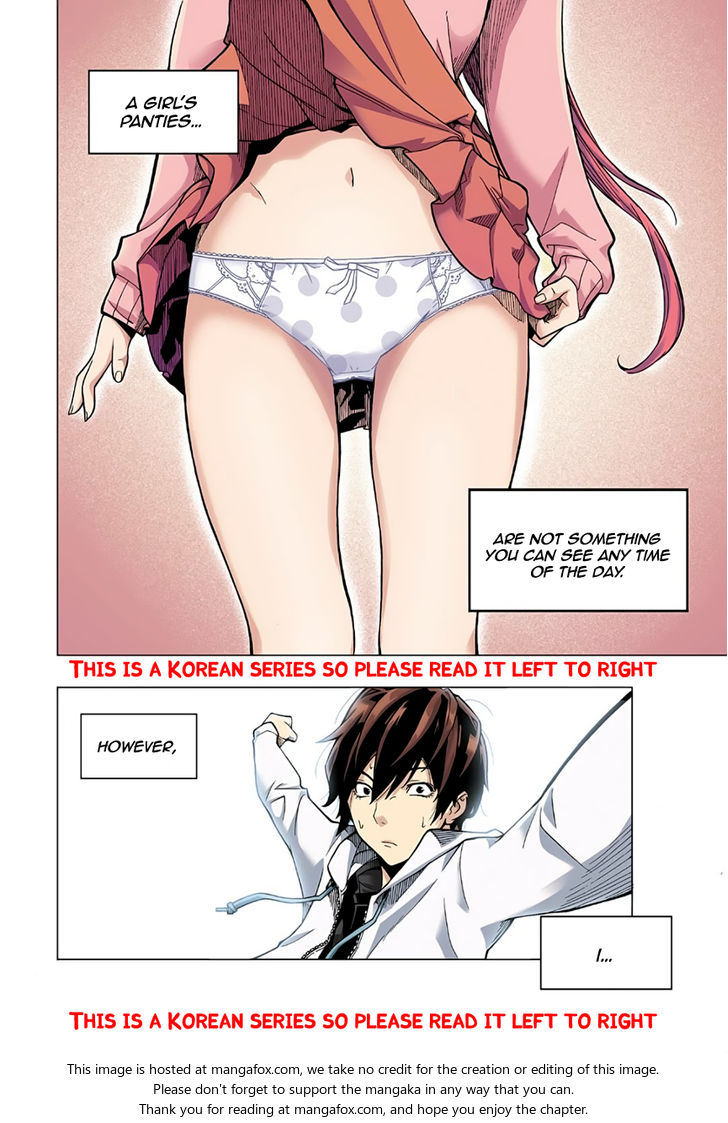bubble: (468, 490, 688, 612), (89, 71, 239, 154), (541, 916, 671, 989), (81, 715, 197, 779)
